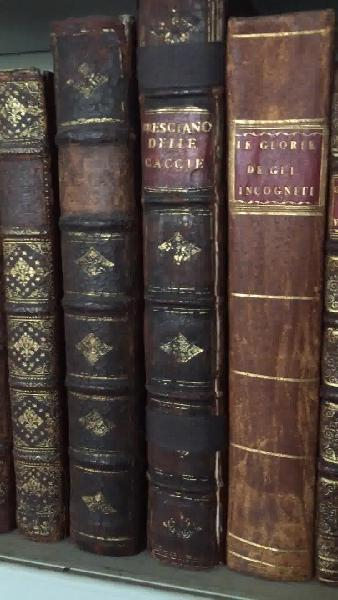Aa6-30: (2, 64, 61, 537)
Aa6-31: (51, 21, 142, 568)
Aa6-32: (138, 3, 221, 570)
Aa6-33: (225, 17, 338, 587)
